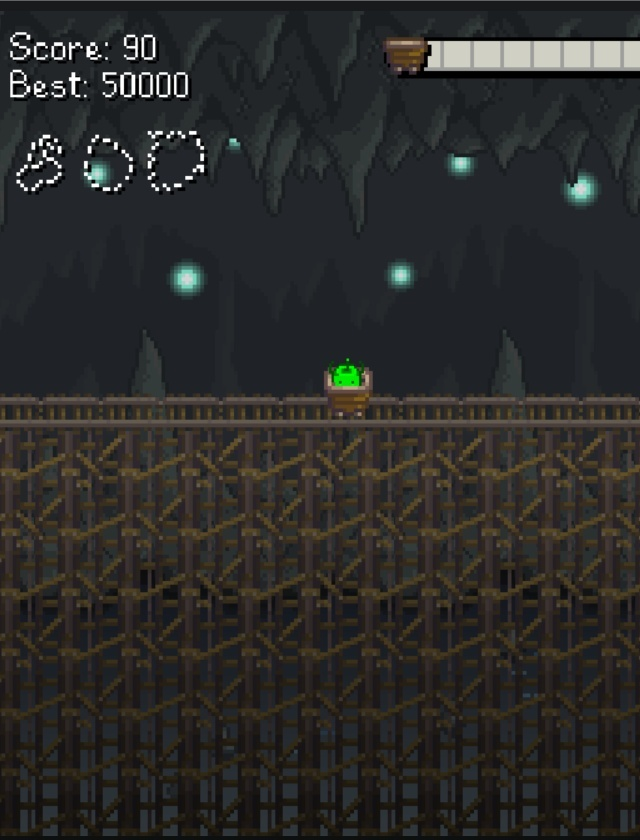minecart: (325, 358, 371, 416)
tracks: (0, 389, 306, 435), (385, 388, 640, 434)
